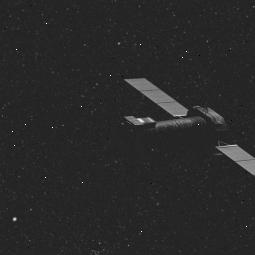xmm_newton: (106, 83, 255, 173)
